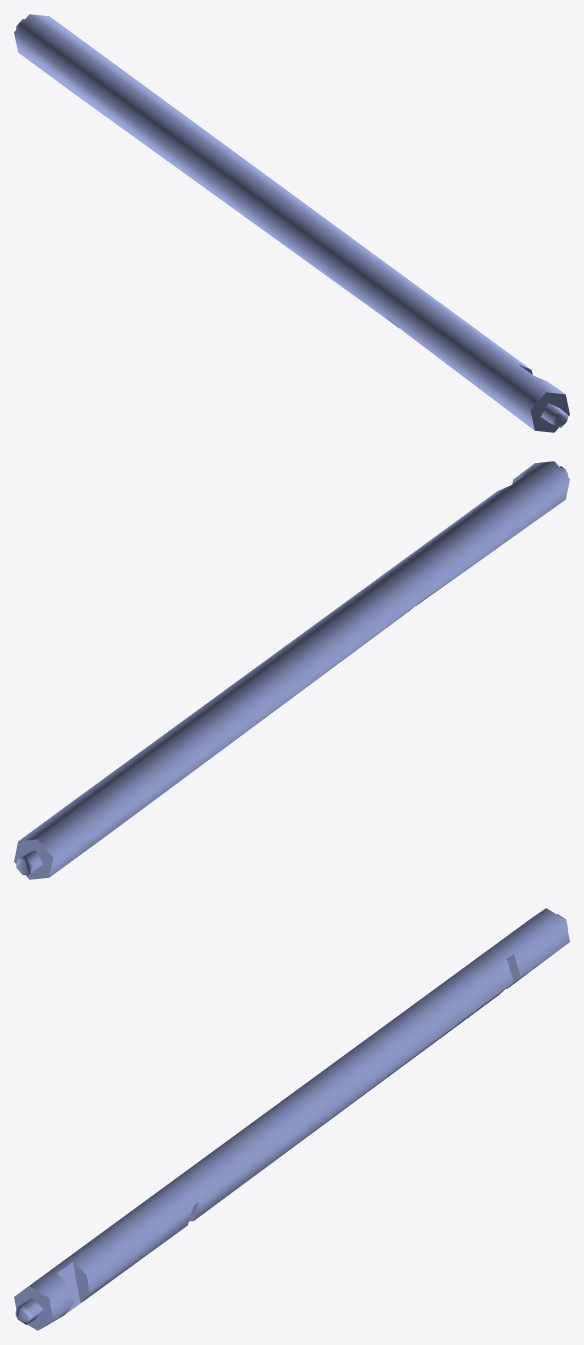
The model's file is Copie de piece autreee^Copie de Assemblage plan_Horloge Comtoise Verge - Sonnerie.obj.
The picture shows the model from 3 angles, top to bottom: view 1: azimuth 30°, elevation 25°; view 2: azimuth 150°, elevation 25°; view 3: azimuth 330°, elevation 25°; orthographic projection.
Visible parts, largest first — view 1: Face_1, Face_4; view 2: Face_1, Face_5; view 3: Face_1, Face_4.
Boxes of the visible parts, left/top/right/bottom form: Face_1: left=14, top=14, right=564, bottom=430; Face_4: left=530, top=392, right=569, bottom=432; Face_1: left=18, top=461, right=569, bottom=877; Face_5: left=14, top=839, right=53, bottom=879; Face_1: left=17, top=908, right=569, bottom=1328; Face_4: left=14, top=1286, right=53, bottom=1330.
Size of the model in its own units: 0.00536 by 0.0054 by 0.1241.
